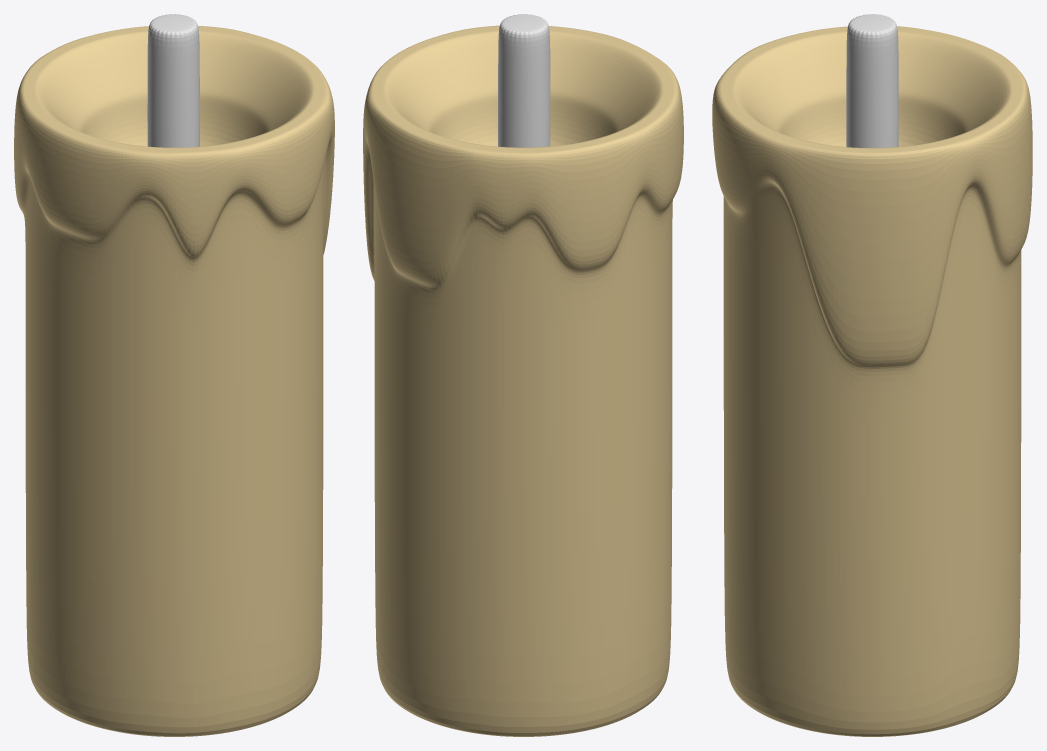
File: Candle.fbx
The picture shows the model from 3 angles, left to right: view 1: azimuth 30°, elevation 25°; view 2: azimuth 150°, elevation 25°; view 3: azimuth 270°, elevation 25°; orthographic projection.
Visible parts, largest first — view 1: Cylinder, Cylinder.001; view 2: Cylinder, Cylinder.001; view 3: Cylinder, Cylinder.001.
Part boxes in pixels (x1,y1,x2,y2): Cylinder: (14, 26, 334, 736); Cylinder.001: (147, 14, 199, 147); Cylinder: (363, 25, 683, 736); Cylinder.001: (498, 14, 550, 147); Cylinder: (712, 26, 1032, 736); Cylinder.001: (846, 14, 898, 147).
Size of the model in its own units: 214 by 485 by 214.
